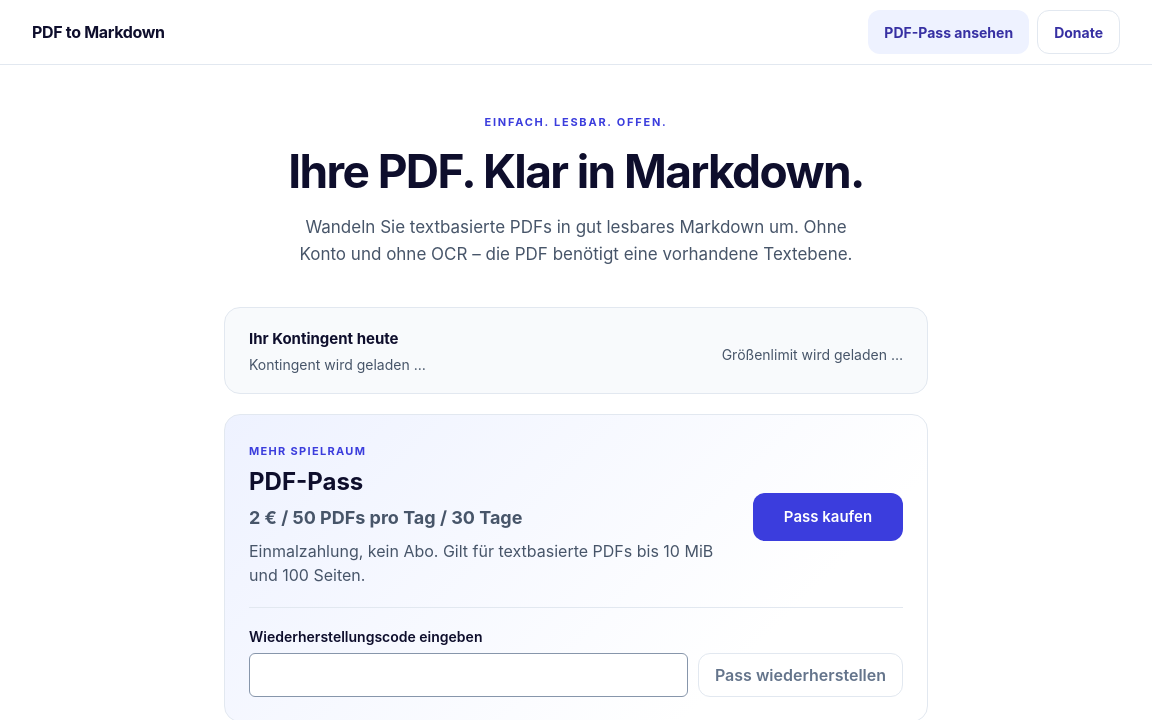
Scenario: voluntary donation › outside the German region the enabled modal uses English
Click the button "Donate". click: (1079, 32)
box: [1037,10,1120,54]
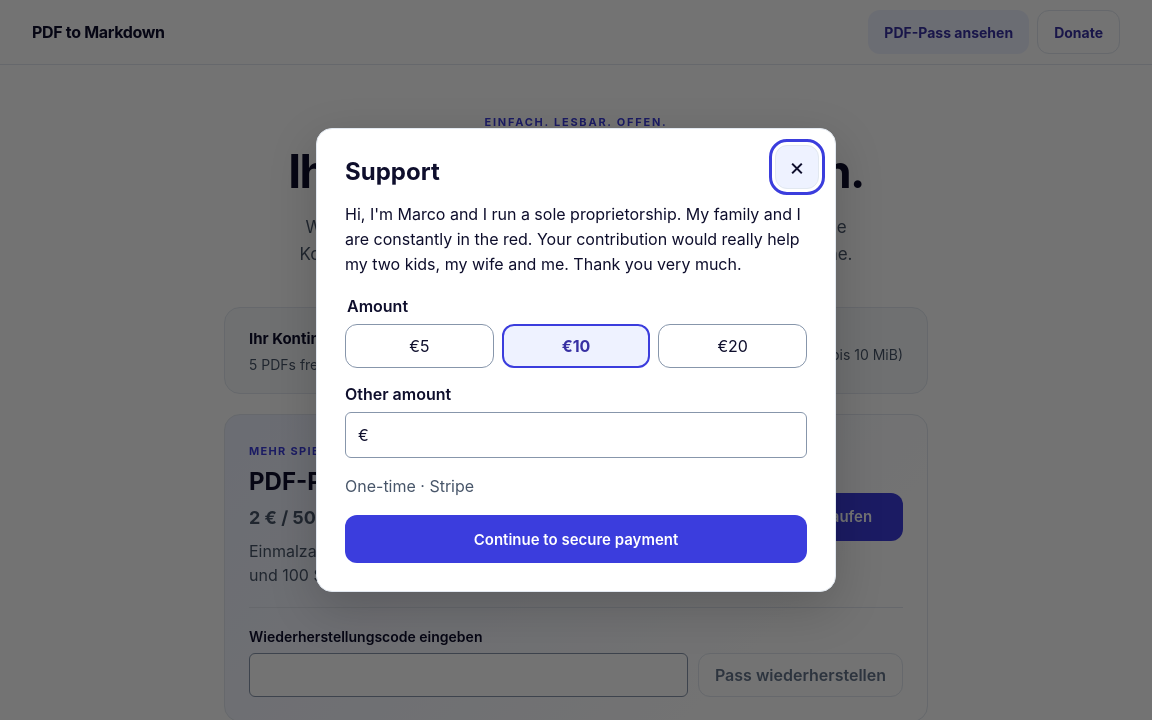
Expected: the dialog "Support" is shown, [316,128,836,592]
Expected: the text "5 PDFs frei" is shown, [249,356,322,373]
